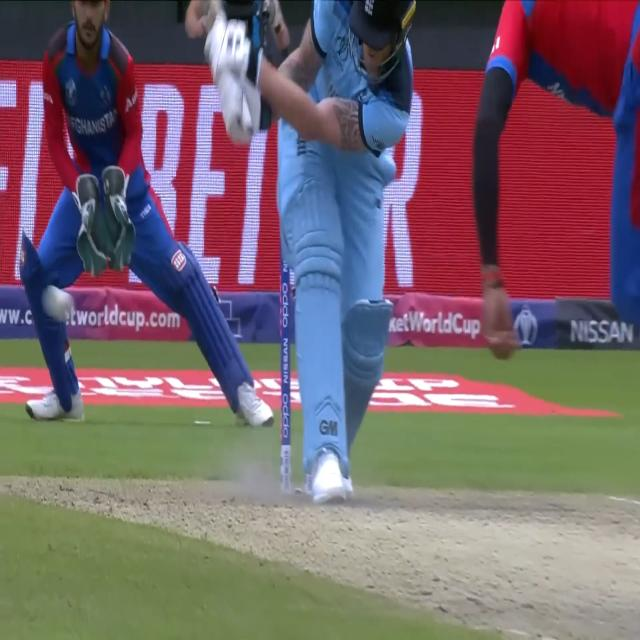ball: (42, 284, 76, 329)
